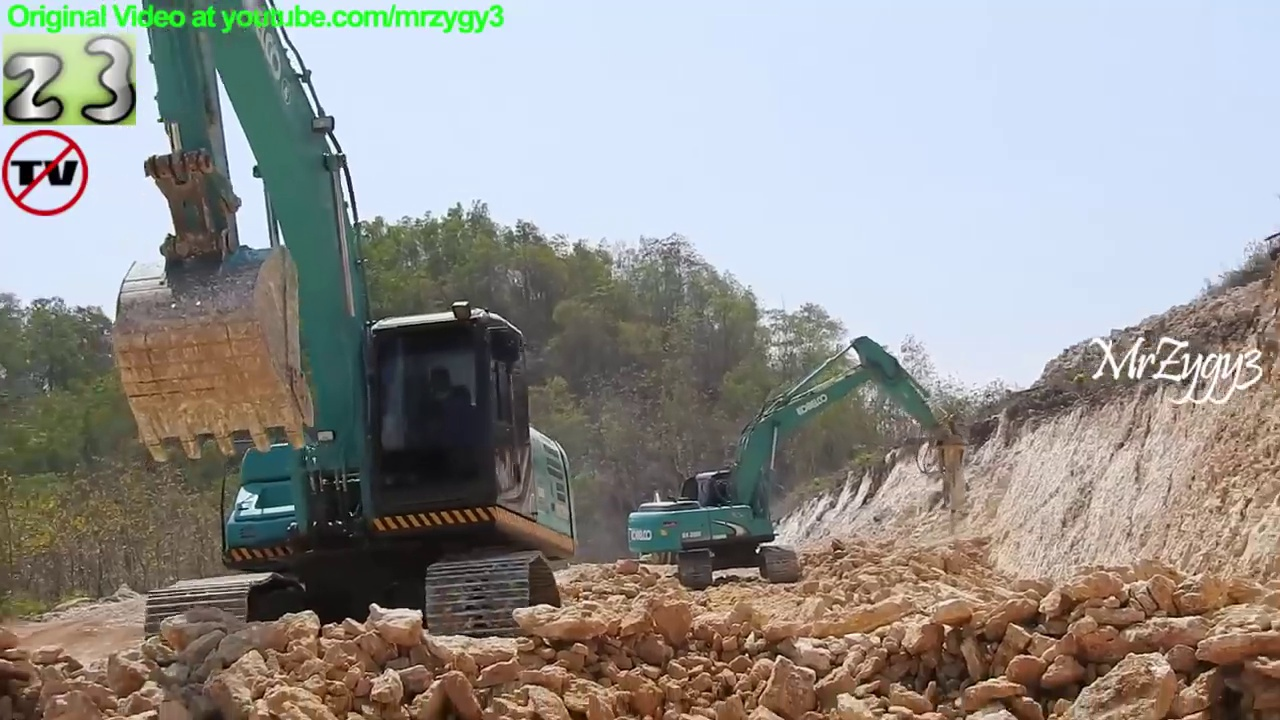excavator: (102, 1, 588, 667)
excavator breaker: (622, 331, 975, 593)
